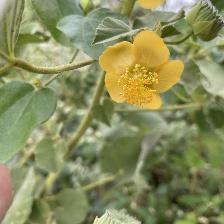indian mallow: (103, 30, 184, 111)
